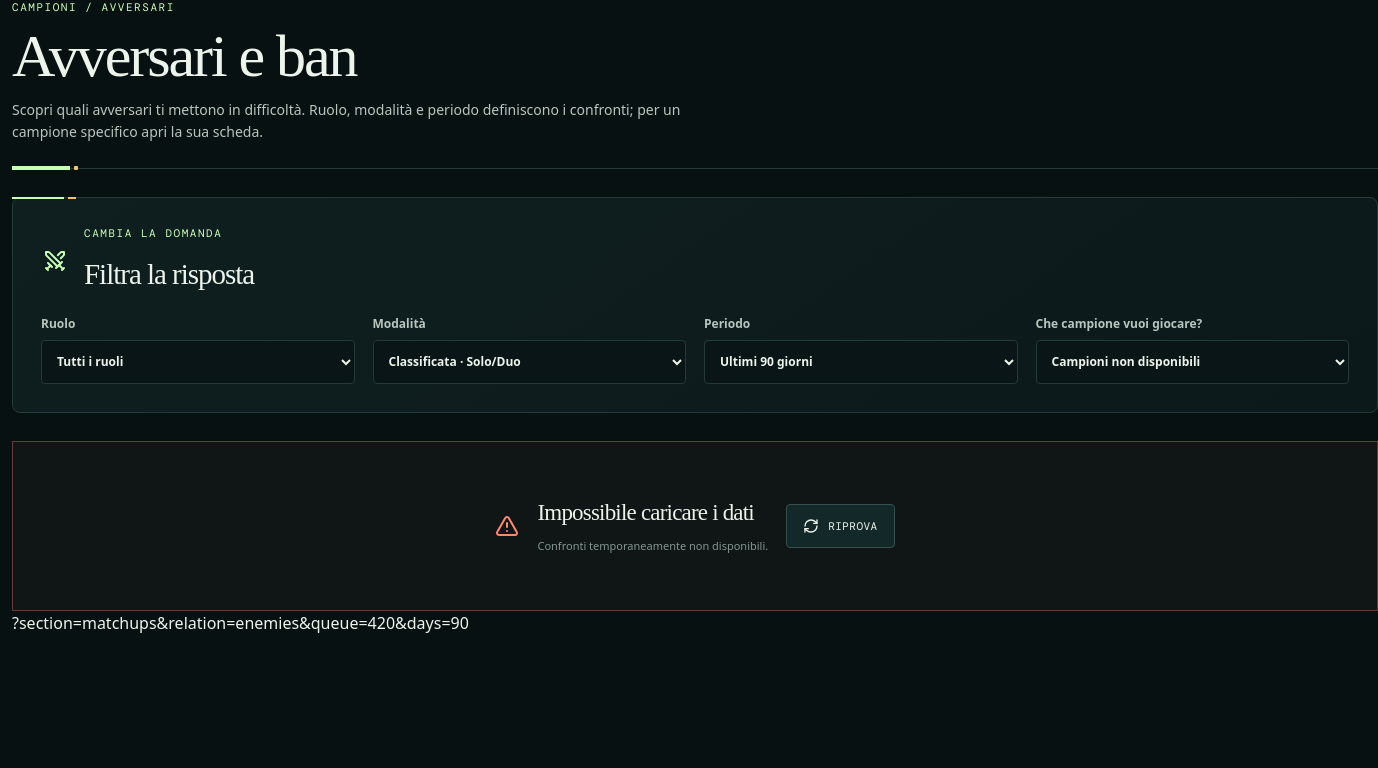
it: recovers from an initial failure by changing filters and preserves unrelated URL parameters
expect the message "Impossibile caricare i dati Confronti temporaneamente non disponibili. Riprova" is shown: met, box [12, 441, 1377, 611]
expect the dropdown labelled "Che campione vuoi giocare?" is disabled: met, box [1036, 340, 1349, 384]
Select "Classificata · flessibile" in the dropdown labelled "Modalità". click: (529, 362)
box: [372, 340, 686, 384]
(page scrolled)
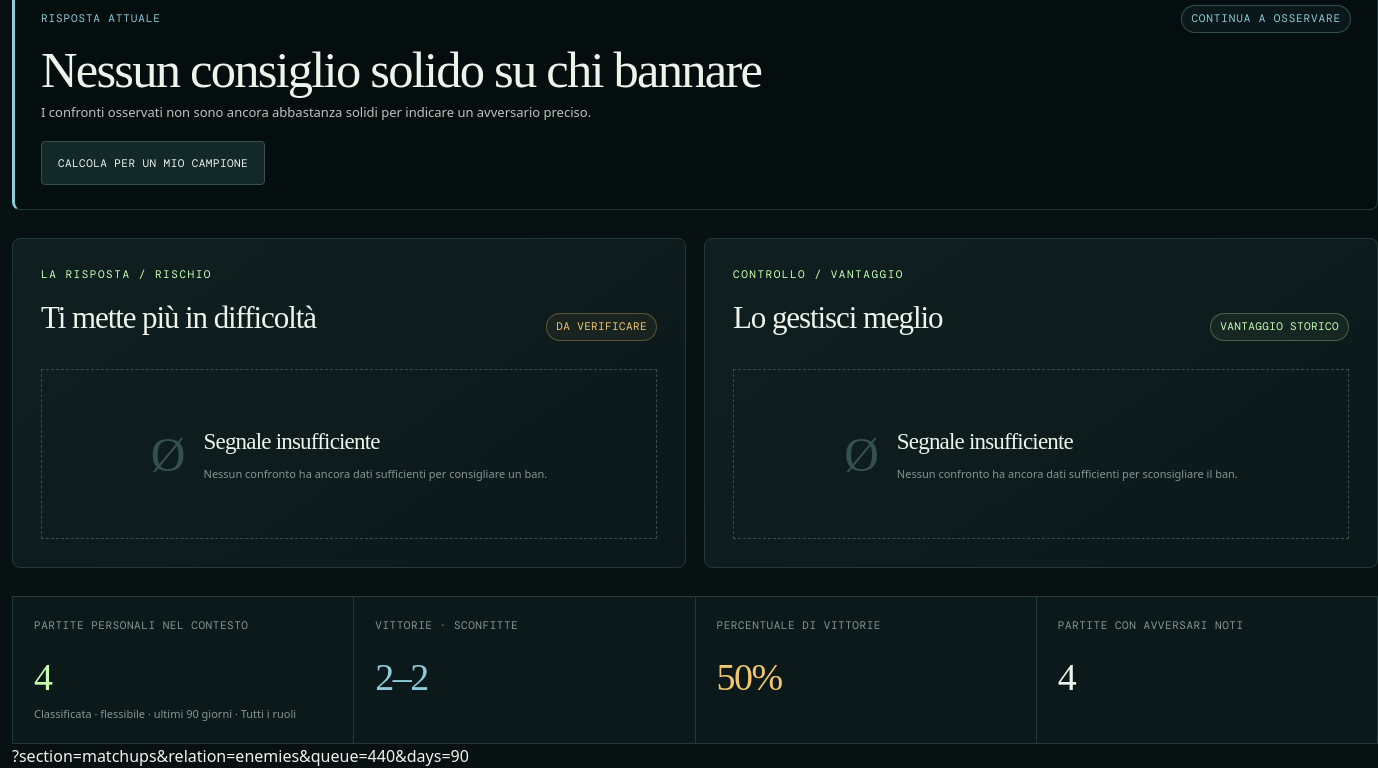
expect the text with test id "matchup-url" shows "section=matchups&relation=enemies&queue=440&days=90": met, box [12, 745, 469, 767]
